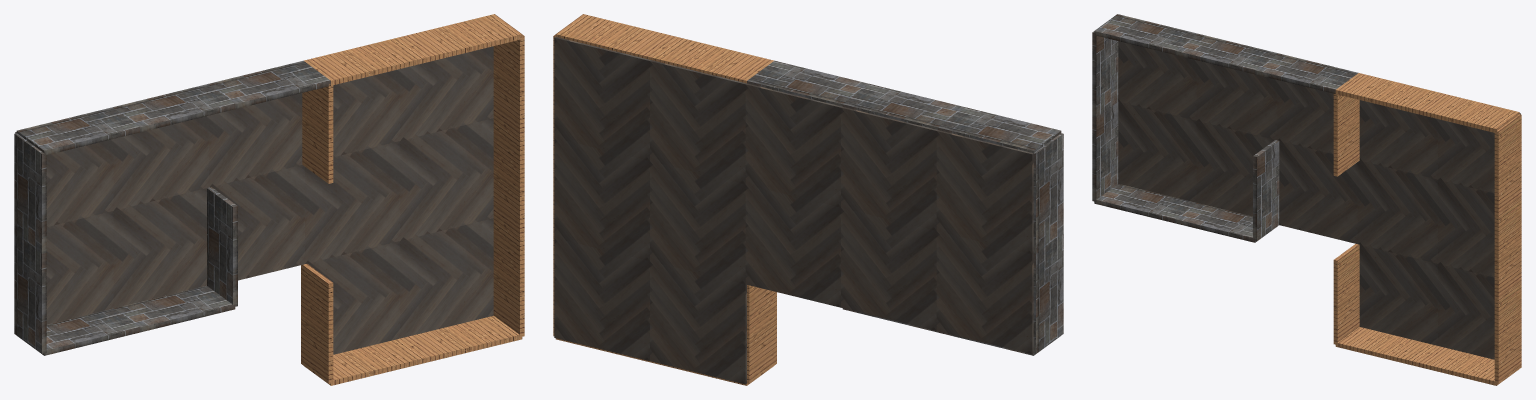
The model's file is room6.gltf.
3 views of the same model, side by side, from view 1: azimuth 30°, elevation 25°; view 2: azimuth 150°, elevation 25°; view 3: azimuth 330°, elevation 25° (orthographic). The views are drawn at different scales.
Visible parts, largest first — view 1: Cube.111, Cube.110, Cube.118, Cube.114, Cube.115, Cube.117, Cube.109, Cube.112, Cube.116, Cube.119, Cube.120, Cube.113 (+17 smaller); view 2: Cube.120, Cube.119, Cube.113, Cube.116, Cube.112, Cube.117, Cube.109, Cube.114, Cube.115, Cube.110, Cube.111, Cube.118 (+8 smaller); view 3: Cube.114, Cube.119, Cube.109, Cube.115, Cube.117, Cube.118, Cube.111, Cube.113, Cube.120, Cube.110, Cube.112, Cube.116 (+17 smaller).
Boxes of the visible parts, bbox=[...] form: Cube.111: bbox=[400, 118, 493, 240]; Cube.110: bbox=[400, 218, 493, 338]; Cube.118: bbox=[113, 188, 206, 308]; Cube.114: bbox=[305, 141, 400, 263]; Cube.115: bbox=[212, 165, 304, 280]; Cube.117: bbox=[113, 115, 209, 210]; Cube.109: bbox=[307, 241, 400, 354]; Cube.112: bbox=[400, 46, 493, 140]; Cube.116: bbox=[209, 93, 302, 187]; Cube.119: bbox=[46, 211, 113, 324]; Cube.120: bbox=[15, 132, 113, 226]; Cube.113: bbox=[333, 69, 400, 156]; Cube.120: bbox=[936, 130, 1033, 254]; Cube.119: bbox=[936, 231, 1033, 354]; Cube.113: bbox=[650, 60, 746, 184]; Cube.116: bbox=[745, 83, 841, 207]; Cube.112: bbox=[554, 37, 650, 160]; Cube.117: bbox=[841, 106, 937, 230]; Cube.109: bbox=[650, 261, 746, 384]; Cube.114: bbox=[650, 161, 745, 284]; Cube.115: bbox=[745, 184, 840, 307]; Cube.110: bbox=[554, 238, 649, 360]; Cube.111: bbox=[554, 138, 649, 260]; Cube.118: bbox=[841, 207, 936, 330]; Cube.114: bbox=[1357, 160, 1437, 263]; Cube.119: bbox=[1118, 101, 1196, 202]; Cube.109: bbox=[1359, 245, 1437, 345]; Cube.115: bbox=[1279, 141, 1357, 243]; Cube.117: bbox=[1196, 60, 1277, 140]; Cube.118: bbox=[1196, 121, 1274, 216]; Cube.111: bbox=[1438, 179, 1494, 277]; Cube.113: bbox=[1359, 100, 1437, 179]; Cube.120: bbox=[1118, 41, 1196, 120]; Cube.110: bbox=[1438, 264, 1494, 359]; Cube.112: bbox=[1438, 113, 1520, 193]; Cube.116: bbox=[1277, 80, 1333, 153].
Size of the model in its own units: 20.2 by 12.2 by 2.1.
Materials: 3 (3 with a texture image).
